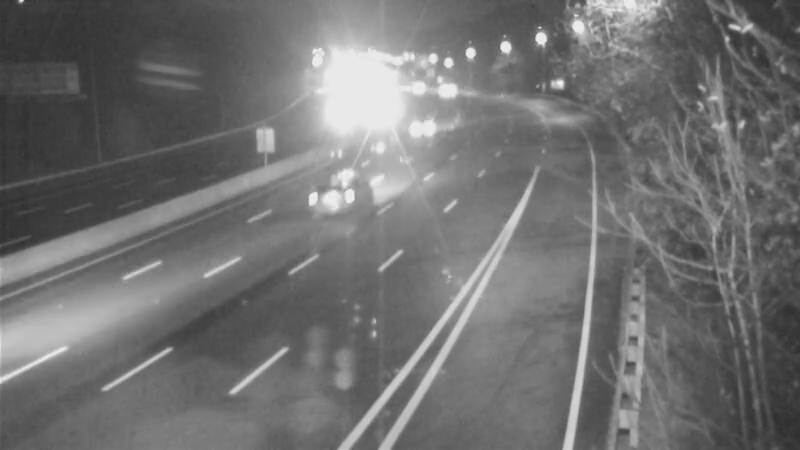vehicle: (290, 155, 370, 235), (400, 94, 450, 144)
